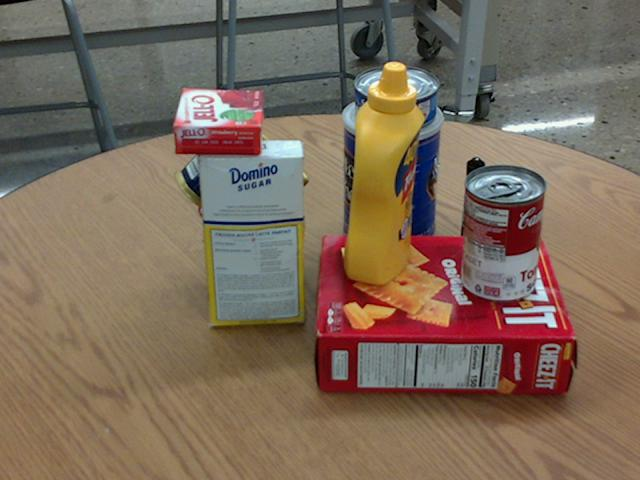cracker_box: (317, 234, 574, 393)
gelatin_box: (173, 88, 263, 153)
large_marker: (458, 157, 483, 266)
master_chef_can: (343, 93, 445, 254)
mug: (196, 179, 290, 290)
mustard_bottle: (343, 60, 424, 284)
potted_meat_can: (174, 113, 310, 243)
sugar_box: (196, 138, 304, 325)
tomato_soup_can: (462, 163, 546, 301)
tuna_fish_can: (355, 65, 439, 128)
